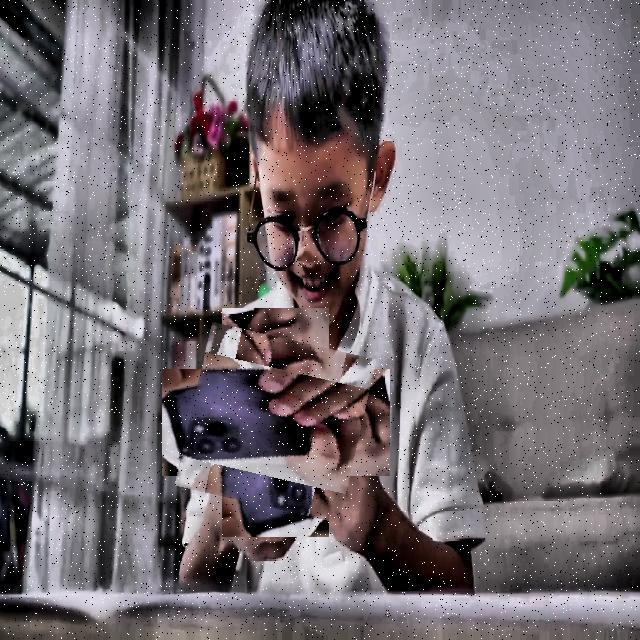Phone: (183, 330, 368, 515)
